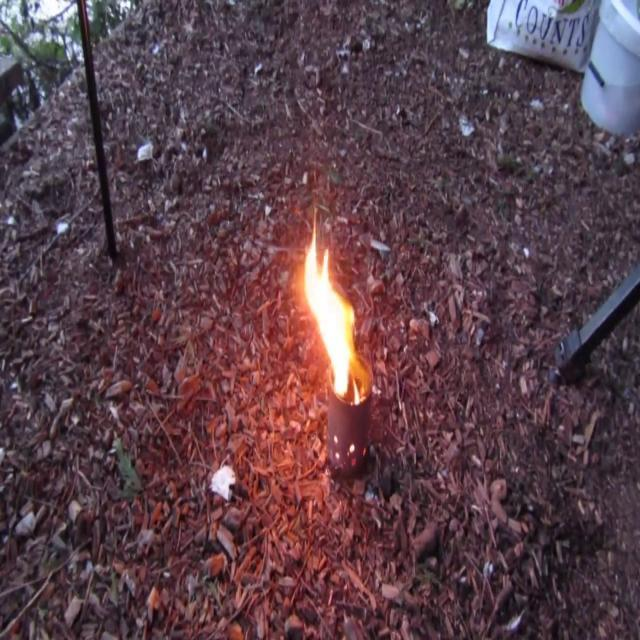Fire: (290, 232, 364, 397)
